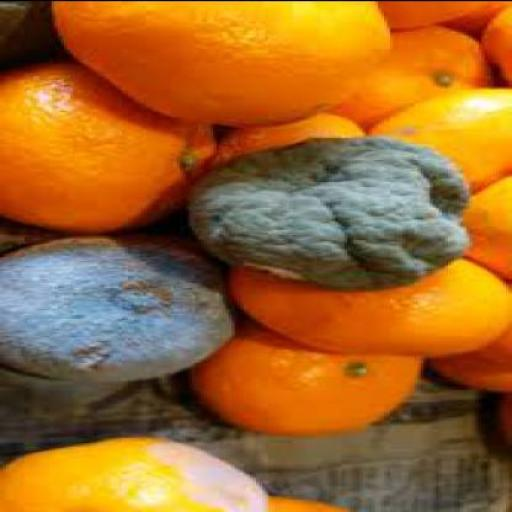biodegradable: (189, 136, 478, 290), (49, 2, 393, 126), (3, 58, 220, 234), (3, 233, 241, 381), (228, 253, 510, 357), (192, 322, 430, 434), (2, 437, 274, 511), (332, 24, 498, 135), (372, 86, 510, 197), (426, 276, 511, 392), (458, 172, 512, 280), (378, 2, 503, 32), (484, 5, 510, 87), (271, 495, 354, 511)
